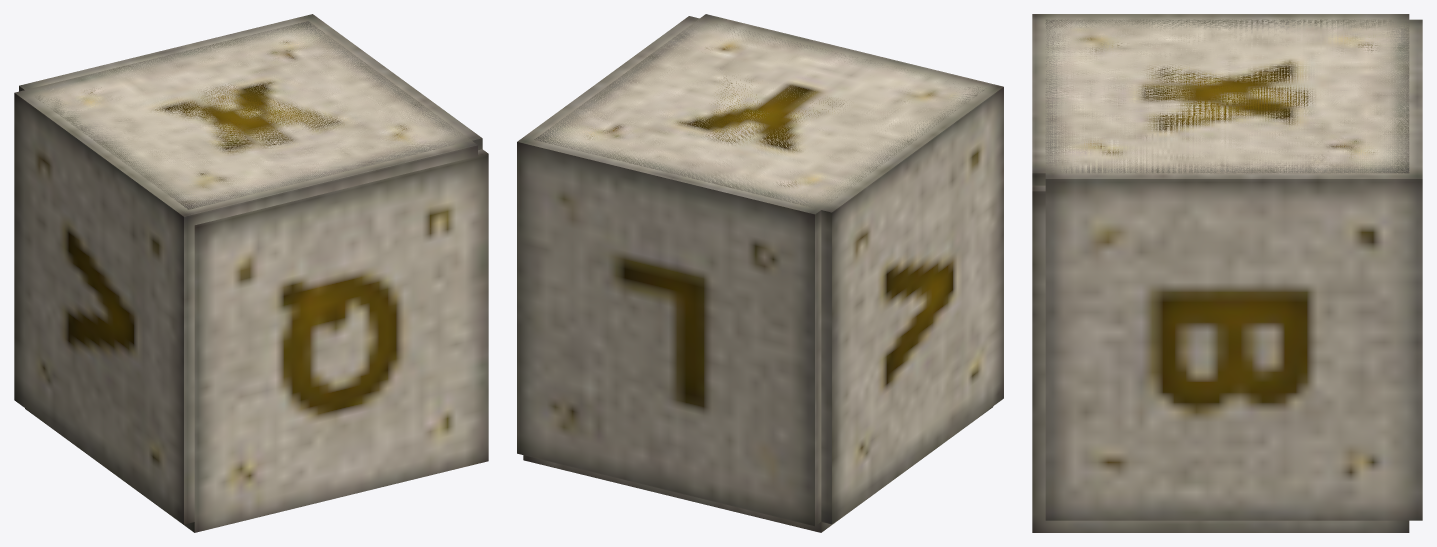
The model's file is blocks.glb.
3 renders of one model, left to right at view 1: azimuth 30°, elevation 25°; view 2: azimuth 150°, elevation 25°; view 3: azimuth 270°, elevation 25°, orthographic. The views are drawn at different scales.
Parts seen in each view (by area): view 1: M-R, S-X, Y-Z, A-F; view 2: G-L, S-X, Y-Z, A-F, M-R; view 3: A-F, Y-Z, M-R.
Part boxes in pixels (x1=…): M-R: x1=25, y1=149, x2=488, y2=532; S-X: x1=14, y1=93, x2=477, y2=524; Y-Z: x1=15, y1=21, x2=477, y2=216; A-F: x1=19, y1=14, x2=482, y2=209; G-L: x1=517, y1=142, x2=821, y2=526; S-X: x1=831, y1=87, x2=1003, y2=523; Y-Z: x1=534, y1=14, x2=1003, y2=524; A-F: x1=517, y1=16, x2=983, y2=214; M-R: x1=523, y1=406, x2=993, y2=532; A-F: x1=1045, y1=19, x2=1422, y2=520; Y-Z: x1=1032, y1=14, x2=1409, y2=185; M-R: x1=1032, y1=185, x2=1409, y2=532.
Bounding box in the file's own units: 0.1388 × 0.1388 × 0.1388.
1 material, 1 textured.
